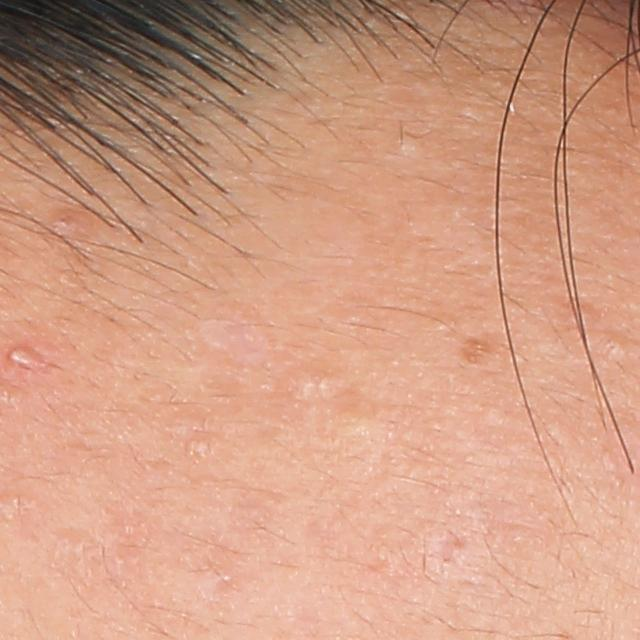comedo: (183, 436, 210, 461)
